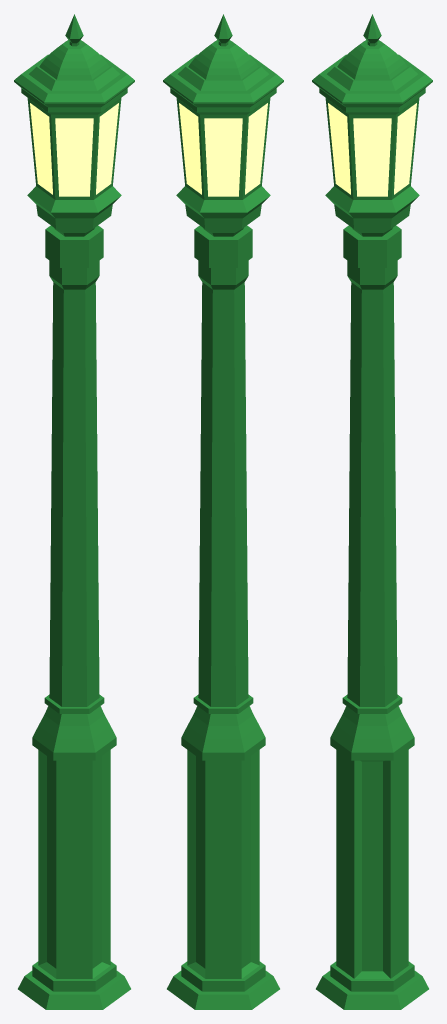
File: Lamp_post.fbx
The picture shows the model from 3 angles, left to right: view 1: azimuth 90°, elevation 25°; view 2: azimuth 210°, elevation 25°; view 3: azimuth 270°, elevation 25°; orthographic projection.
Parts seen in each view (by area): view 1: Lamp post; view 2: Lamp post; view 3: Lamp post.
Part boxes in pixels (box(x1,y1,x2,y2)): Lamp post: box(14, 14, 134, 1009); Lamp post: box(163, 14, 283, 1009); Lamp post: box(312, 14, 432, 1009).
Bounding box in the file's own units: 64.36 × 55.74 × 573.
